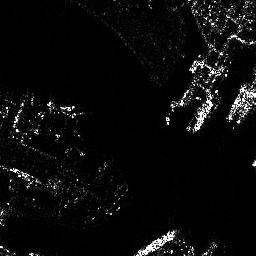ship: (133, 230, 180, 256), (227, 82, 246, 121), (192, 97, 212, 131)
